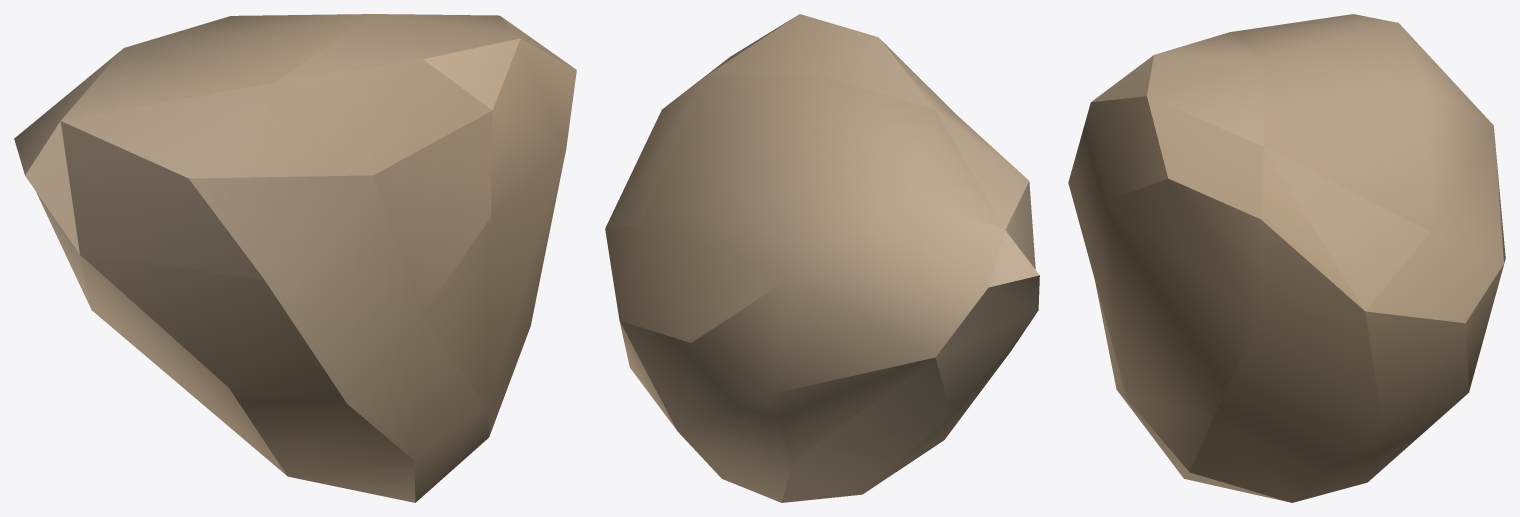
File: Rock_3_A_Color7.fbx
3 views of the same model, side by side, from view 1: azimuth 30°, elevation 25°; view 2: azimuth 150°, elevation 25°; view 3: azimuth 270°, elevation 25° (orthographic). The views are drawn at different scales.
Parts seen in each view (by area): view 1: Rock_3_A_Color7; view 2: Rock_3_A_Color7; view 3: Rock_3_A_Color7.
Boxes of the visible parts, bbox=[...] form: Rock_3_A_Color7: bbox=[14, 14, 576, 502]; Rock_3_A_Color7: bbox=[605, 14, 1039, 502]; Rock_3_A_Color7: bbox=[1068, 14, 1505, 502].
Size of the model in its own units: 0.9563 by 0.8589 by 0.8075.
